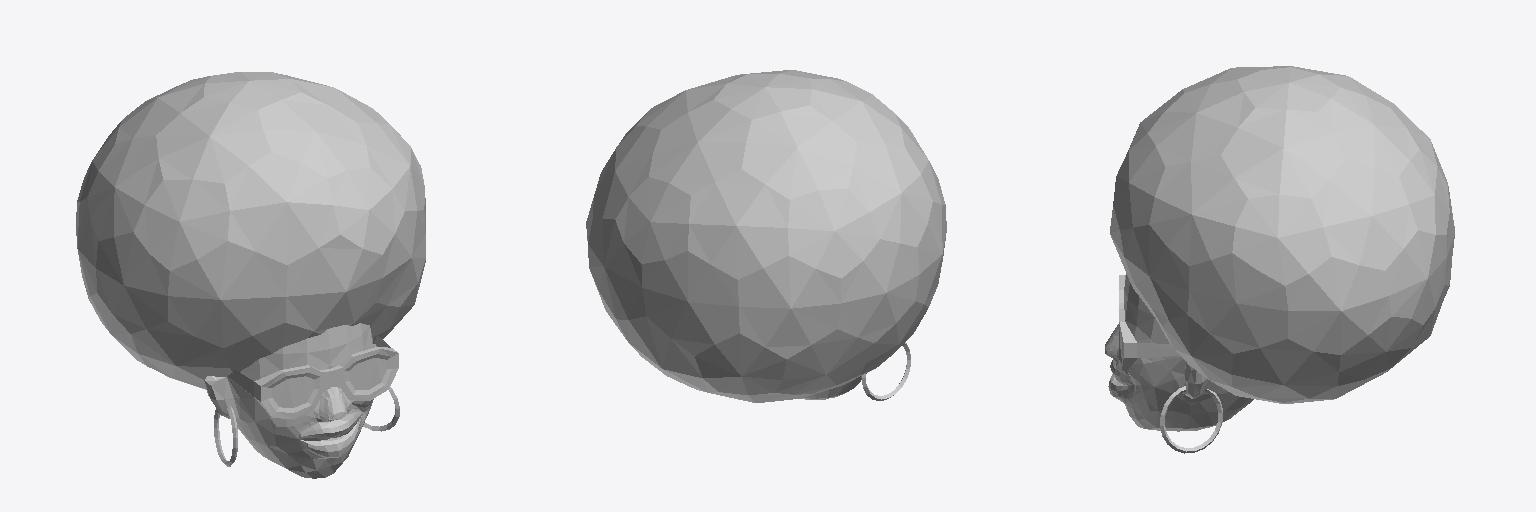
The model's file is char2-head.obj.
The picture shows the model from 3 angles: view 1: azimuth 30°, elevation 25°; view 2: azimuth 150°, elevation 25°; view 3: azimuth 270°, elevation 25°; orthographic projection.
Parts seen in each view (by area): view 1: head; view 2: head; view 3: head.
Part boxes in pixels (x1,y1,x2,y2): head: (76,72,425,478); head: (586,70,946,402); head: (1105,66,1454,453).
Size of the model in its own units: 0.5729 by 0.6066 by 0.559.